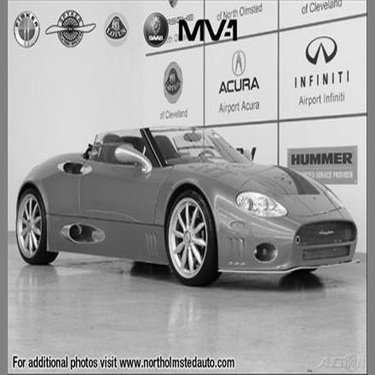car: (12, 117, 361, 290)
